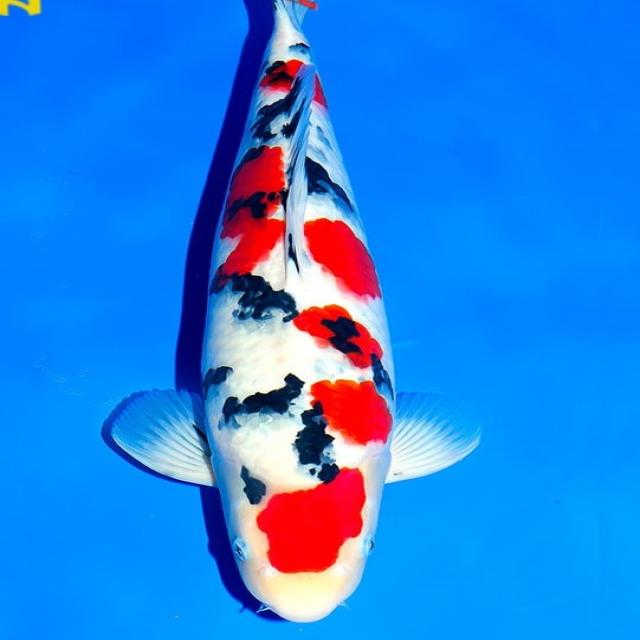Sanke: (100, 0, 482, 623)
